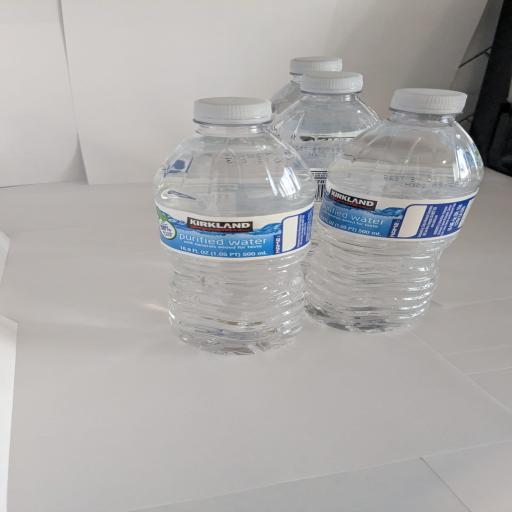waterbottle: (307, 89, 483, 331), (154, 98, 314, 353), (272, 72, 379, 272), (271, 57, 342, 114)
